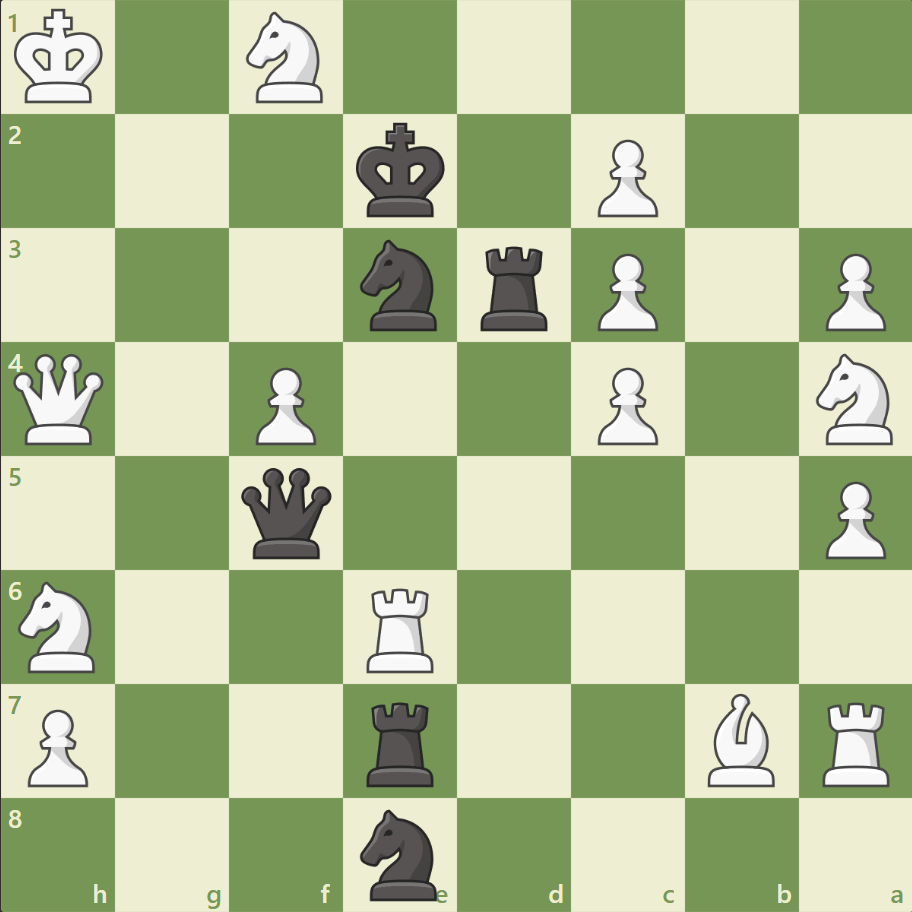B: (698, 687, 782, 790)
K: (11, 4, 111, 112)
N: (238, 7, 335, 110), (11, 575, 108, 677), (806, 348, 903, 450)
P: (20, 700, 95, 791), (247, 359, 322, 450), (815, 473, 889, 564), (588, 359, 662, 450), (815, 246, 889, 337), (588, 246, 662, 337), (588, 132, 662, 223)
Q: (10, 349, 109, 449)
R: (814, 693, 897, 790), (360, 579, 442, 676)
k: (351, 117, 451, 225)
n: (351, 234, 449, 337), (351, 802, 449, 904)
q: (237, 463, 336, 562)
r: (473, 239, 556, 336), (360, 693, 442, 790)
